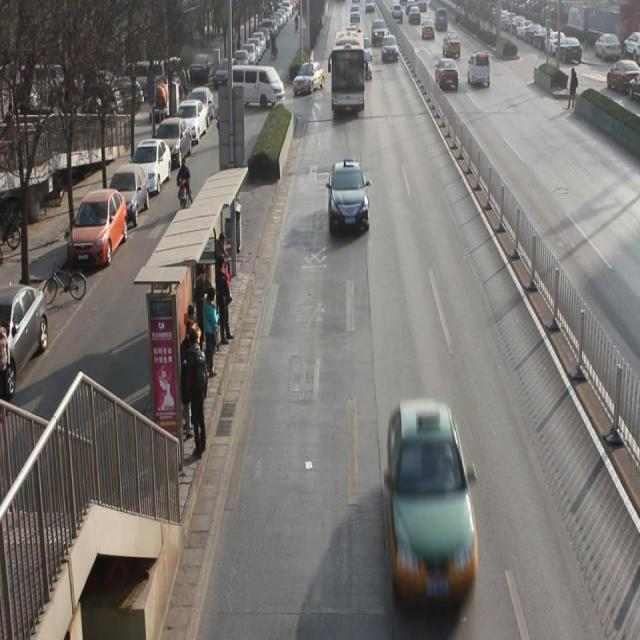car: (383, 408, 483, 600), (324, 158, 374, 240), (469, 48, 492, 91), (298, 56, 324, 94), (435, 57, 462, 91), (442, 32, 462, 56), (359, 50, 374, 82), (382, 36, 399, 61), (372, 20, 388, 46)
van: (331, 27, 364, 114)
